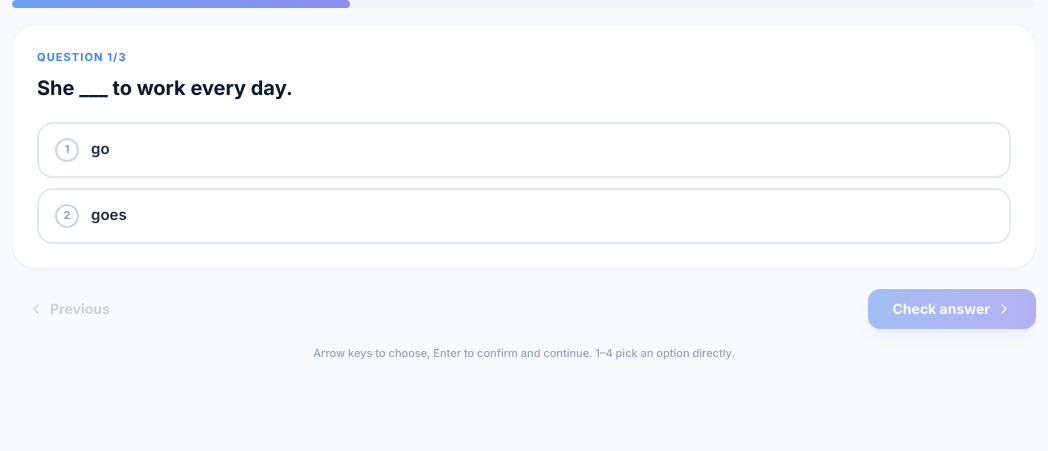
Test: QuizStage — immediate feedback › shows no explanation when the author wrote none
Expected: the heading "She ___ to work every day." is shown, [37,76,293,100]
Click the radio button labelled "2 goes". click: (109, 215)
box: [37,188,1011,244]
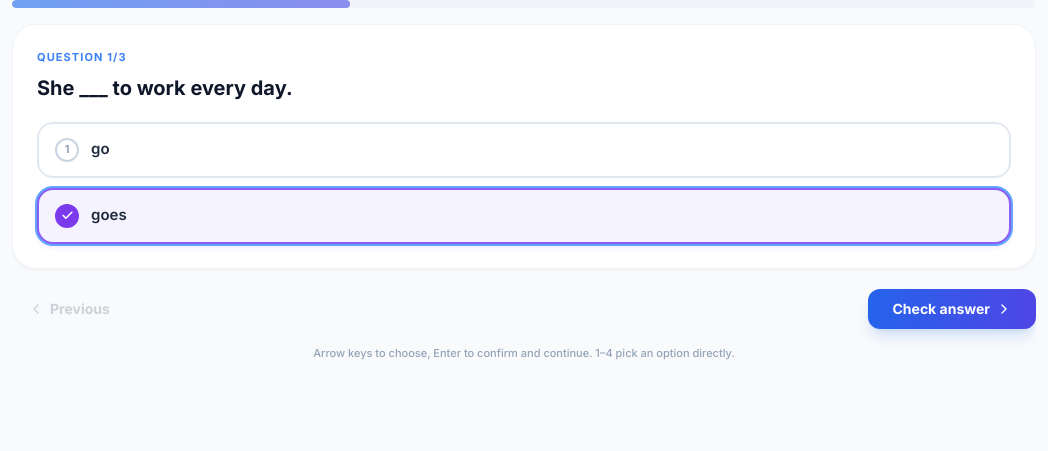
Click the button "Check answer". click: (952, 308)
box: [868,288,1036,328]
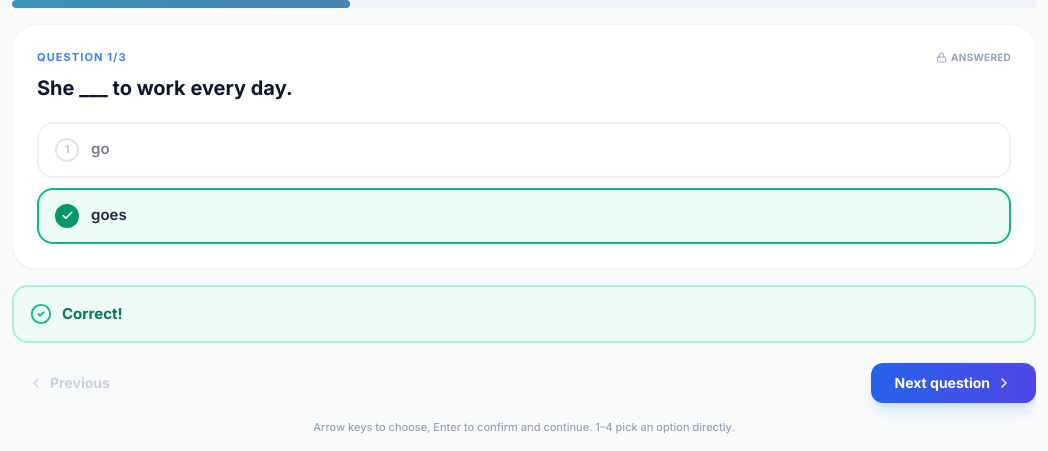
Expected: the text "Correct!" is shown, [62,302,123,325]
